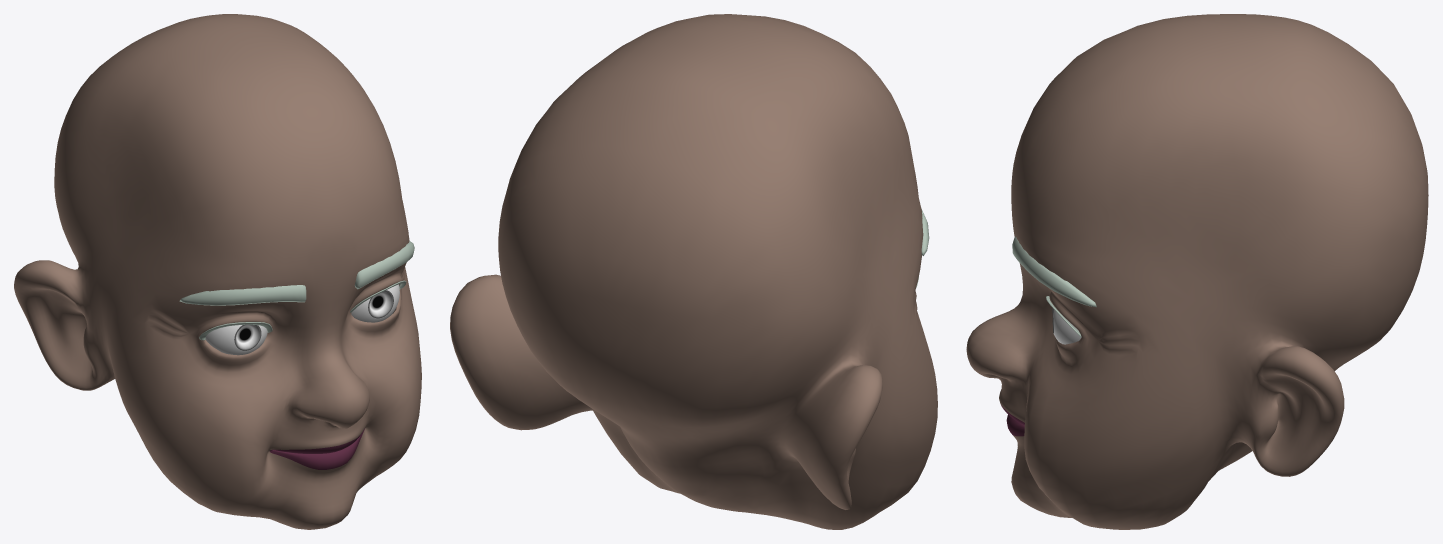
3 views of the same model, side by side, from view 1: azimuth 30°, elevation 25°; view 2: azimuth 150°, elevation 25°; view 3: azimuth 270°, elevation 25° (orthographic). The views are drawn at different scales.
Parts seen in each view (by area): view 1: skin, brows, eyes, lashes; view 2: skin; view 3: skin, brows, eyes.
Boxes of the visible parts, x1=… form: skin: x1=14, y1=14, x2=421, y2=529; brows: x1=179, y1=241, x2=414, y2=305; eyes: x1=205, y1=284, x2=399, y2=355; lashes: x1=199, y1=280, x2=406, y2=340; skin: x1=450, y1=14, x2=937, y2=529; skin: x1=966, y1=14, x2=1428, y2=529; brows: x1=1012, y1=236, x2=1096, y2=307; eyes: x1=1052, y1=308, x2=1081, y2=344.
Bounding box in the file's own units: 1.7 × 2 × 1.76.
Materials: 10 (1 with a texture image).
